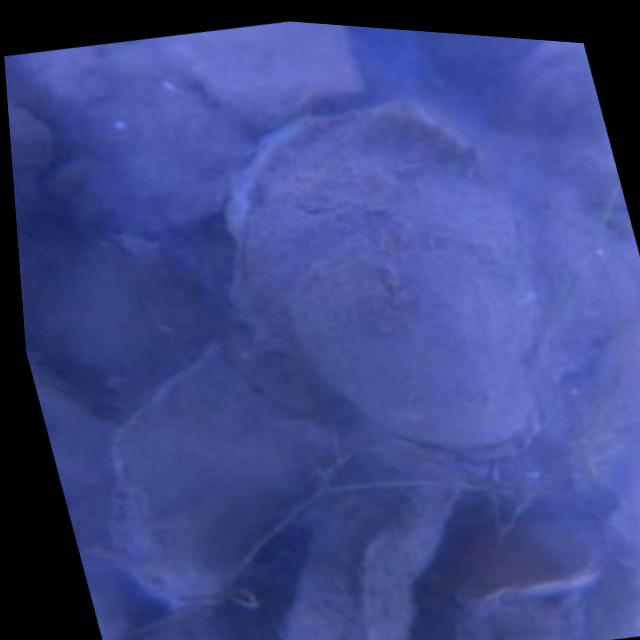Oyster-Closed: (218, 92, 532, 355), (289, 246, 545, 470)
Oyster-Indeterminate: (110, 360, 320, 604), (285, 442, 477, 640), (22, 54, 243, 225), (164, 23, 379, 128), (450, 516, 605, 604), (7, 99, 51, 196)
